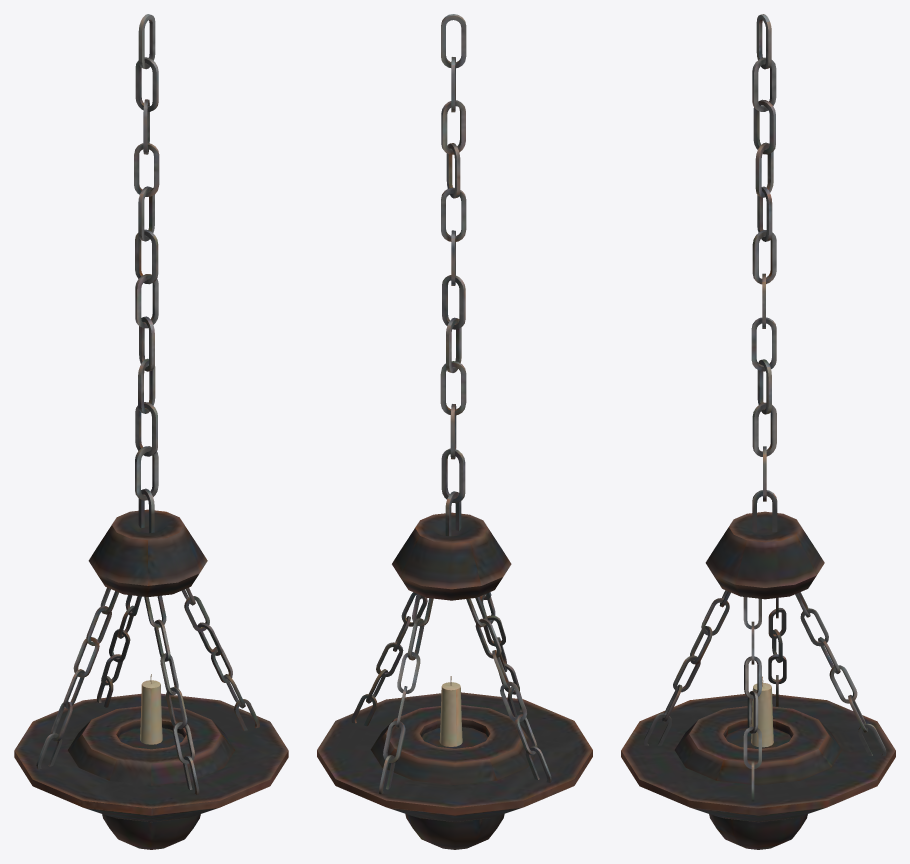
File: SM_light.glb
3 views of the same model, side by side, from view 1: azimuth 30°, elevation 25°; view 2: azimuth 150°, elevation 25°; view 3: azimuth 270°, elevation 25° (orthographic).
Parts seen in each view (by area): view 1: SM_light; view 2: SM_light; view 3: SM_light.
Part boxes in pixels (x1=…): SM_light: x1=14, y1=14, x2=288, y2=849; SM_light: x1=317, y1=14, x2=592, y2=849; SM_light: x1=621, y1=14, x2=895, y2=849.
Size of the model in its own units: 0.8315 by 2.76 by 0.8315.
1 material, 1 textured.
